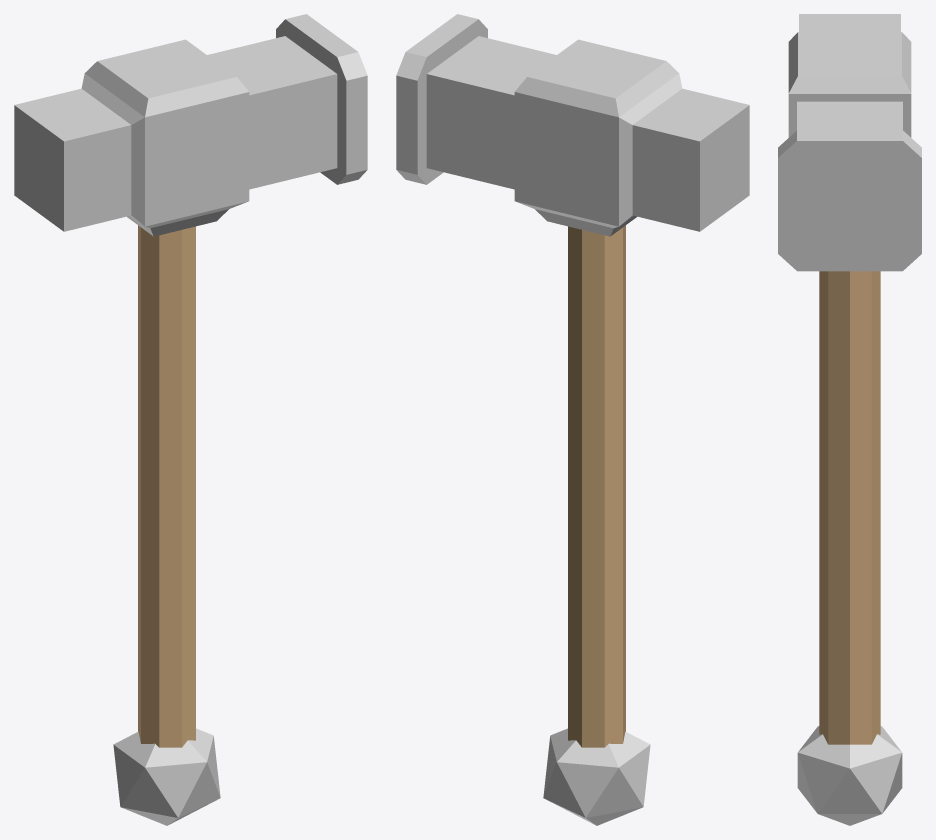
The model's file is hummer.fbx.
The picture shows the model from 3 angles, left to right: view 1: azimuth 30°, elevation 25°; view 2: azimuth 150°, elevation 25°; view 3: azimuth 270°, elevation 25°; orthographic projection.
Visible parts, largest first — view 1: Cube, Cylinder, Icosphere; view 2: Cube, Cylinder, Icosphere; view 3: Cube, Cylinder, Icosphere.
Boxes of the visible parts, <box> form: Cube: <box>14,14,367,236</box>; Cylinder: <box>138,225,195,747</box>; Icosphere: <box>113,728,220,825</box>; Cube: <box>396,14,749,236</box>; Cylinder: <box>568,225,625,747</box>; Icosphere: <box>543,728,650,825</box>; Cube: <box>778,14,921,271</box>; Cylinder: <box>819,271,880,744</box>; Icosphere: <box>797,726,902,825</box>.
Bounding box in the file's own units: 562 × 1385 × 234.
